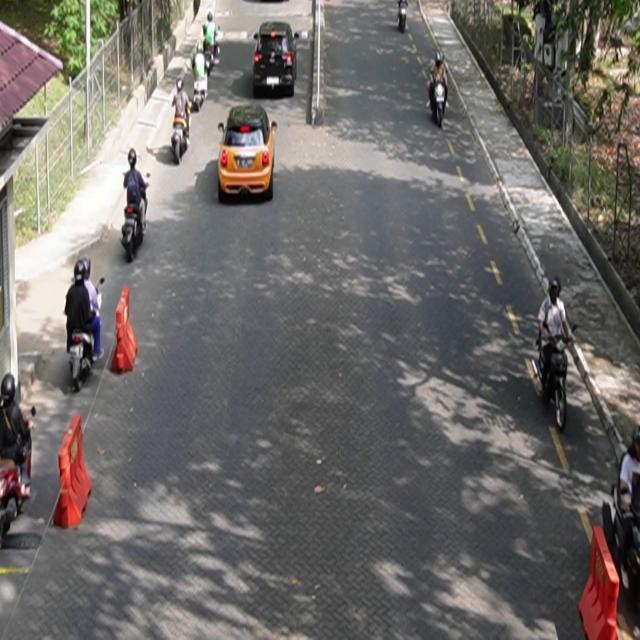car: (219, 104, 279, 203), (253, 21, 300, 99)
